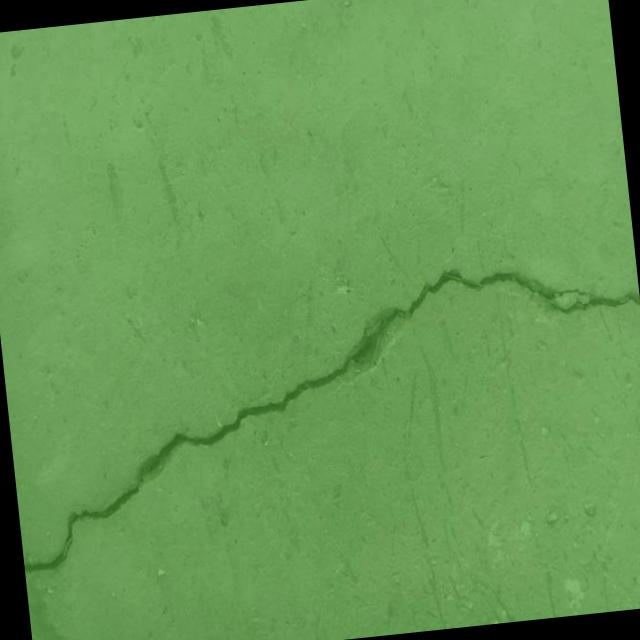crack: (0, 248, 640, 575)
